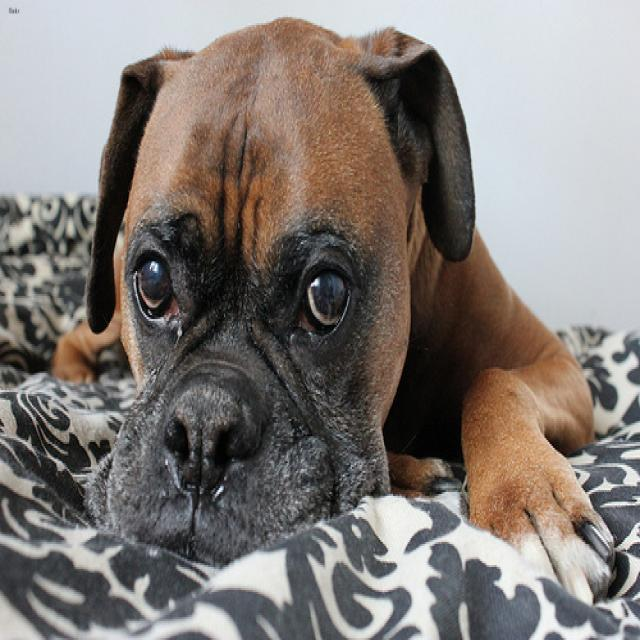dog-boxer: (42, 6, 620, 615)
